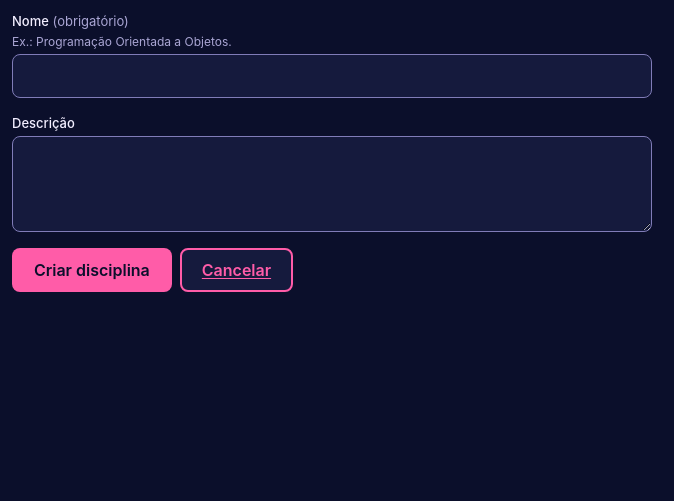
it: 004/US1-1 004/US1-2 SubjectForm (FR-002) › SUBJECT_NAME_TAKEN aparece no campo Nome
This screenshot has width=674, height=501.
Type "algoritmos " into the field labelled "Nome (obrigatório)". click: {"x": 332, "y": 76}
box: [12,54,652,98]
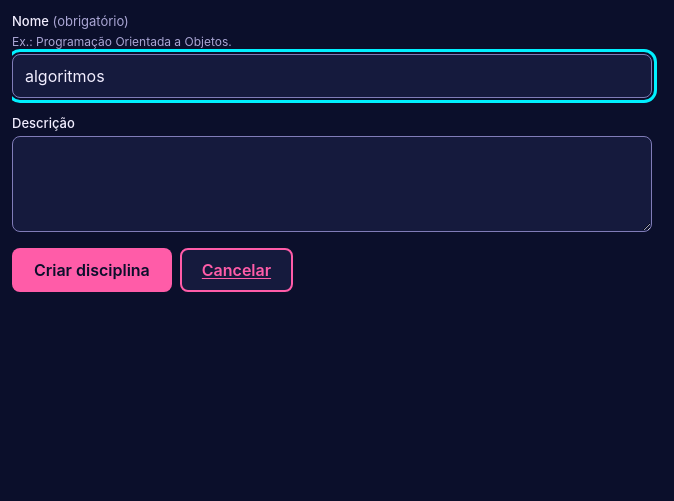
Click the button "Criar disciplina". click: {"x": 92, "y": 270}
box: [12,248,172,292]
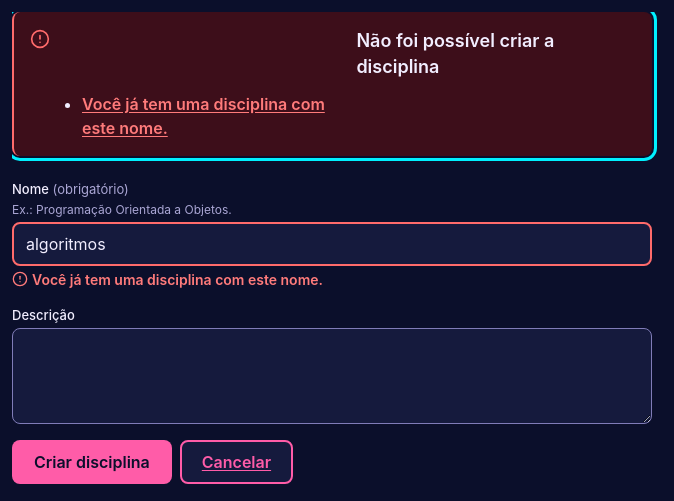
Result: the element with id "nome-erro" reads "Você já tem uma disciplina com este nome." at [32,271,323,288]
